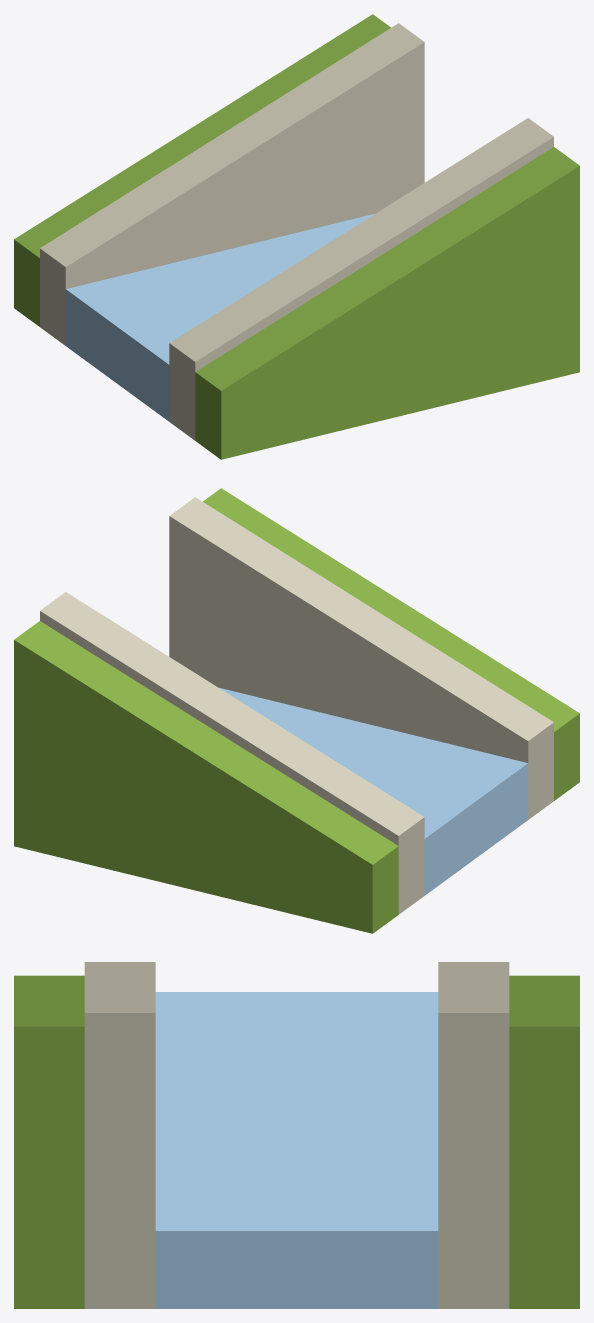
File: tile113.fbx
3 views of the same model, one above another, from view 1: azimuth 30°, elevation 25°; view 2: azimuth 150°, elevation 25°; view 3: azimuth 270°, elevation 25° (orthographic). The views are drawn at different scales.
Parts seen in each view (by area): view 1: tile113; view 2: tile113; view 3: tile113.
Part boxes in pixels (x1,y1,x2,y2): tile113: [14, 14, 579, 459]; tile113: [14, 488, 579, 933]; tile113: [14, 962, 579, 1308].
Size of the model in its own units: 10 by 5.77 by 10.
